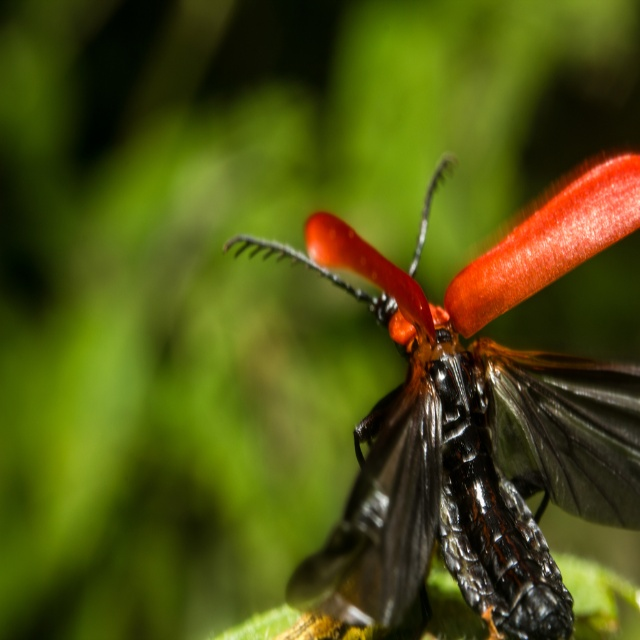Butterfly: (256, 157, 616, 620)
